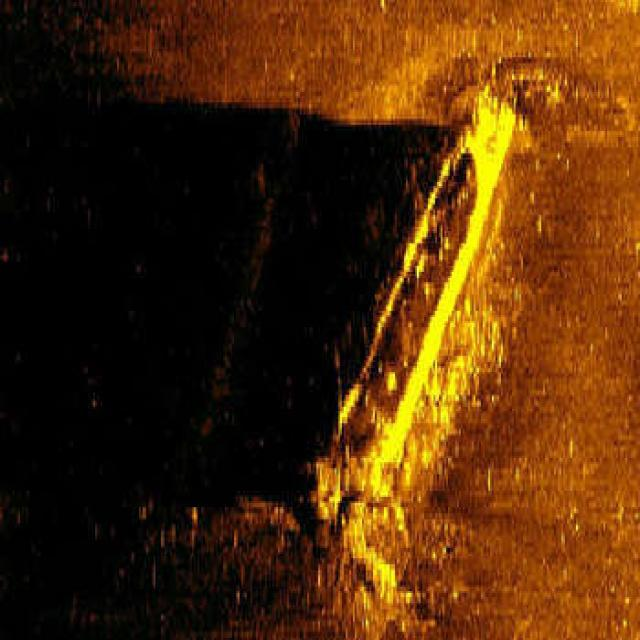shipwreck: (314, 88, 516, 538)
